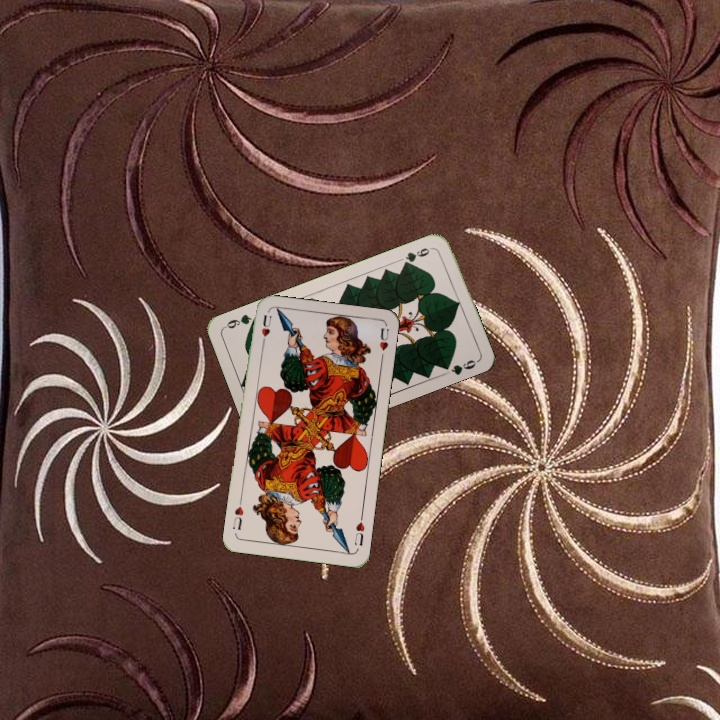G9: (399, 243, 436, 268)
HU: (257, 311, 274, 349), (350, 511, 367, 548)
